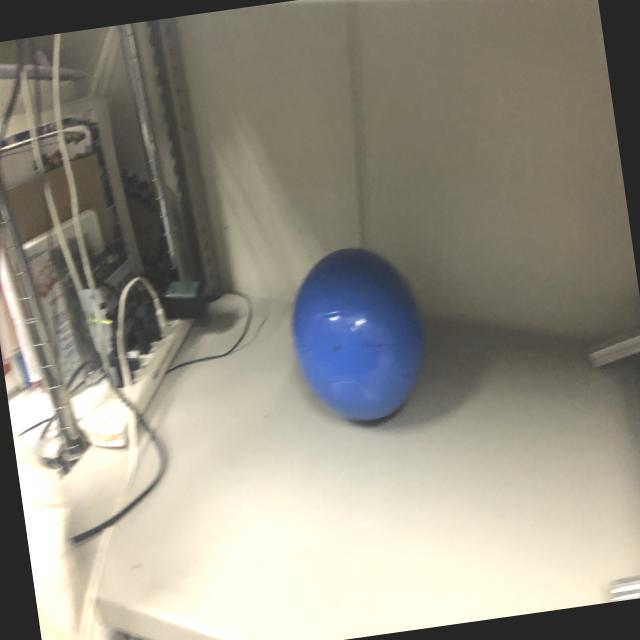blue_ball: (282, 240, 433, 433)
